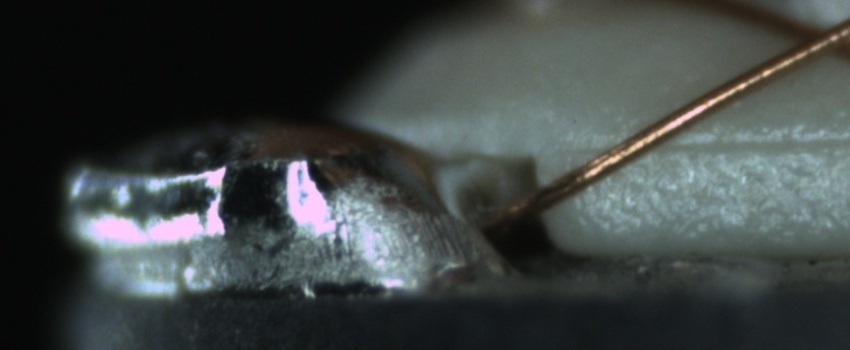CL: (772, 7, 849, 67)
DL: (601, 112, 849, 179)
